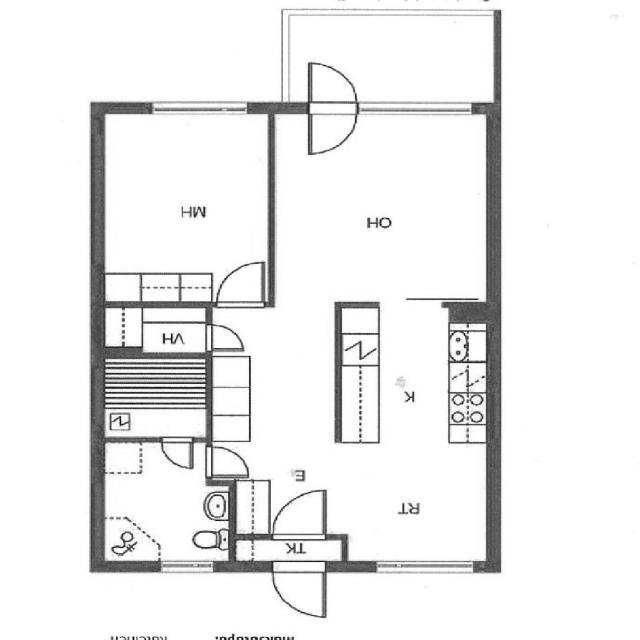door: (304, 61, 357, 158), (275, 480, 328, 550), (273, 556, 325, 626), (214, 253, 266, 318), (208, 441, 248, 478), (208, 321, 245, 359), (159, 433, 194, 470)
window: (152, 100, 256, 115), (156, 554, 217, 578), (366, 100, 469, 114), (377, 559, 473, 573)
zone: (335, 301, 500, 568), (270, 104, 492, 300), (100, 109, 270, 301), (212, 299, 339, 486), (98, 434, 234, 562), (101, 360, 204, 436), (106, 299, 202, 361)
